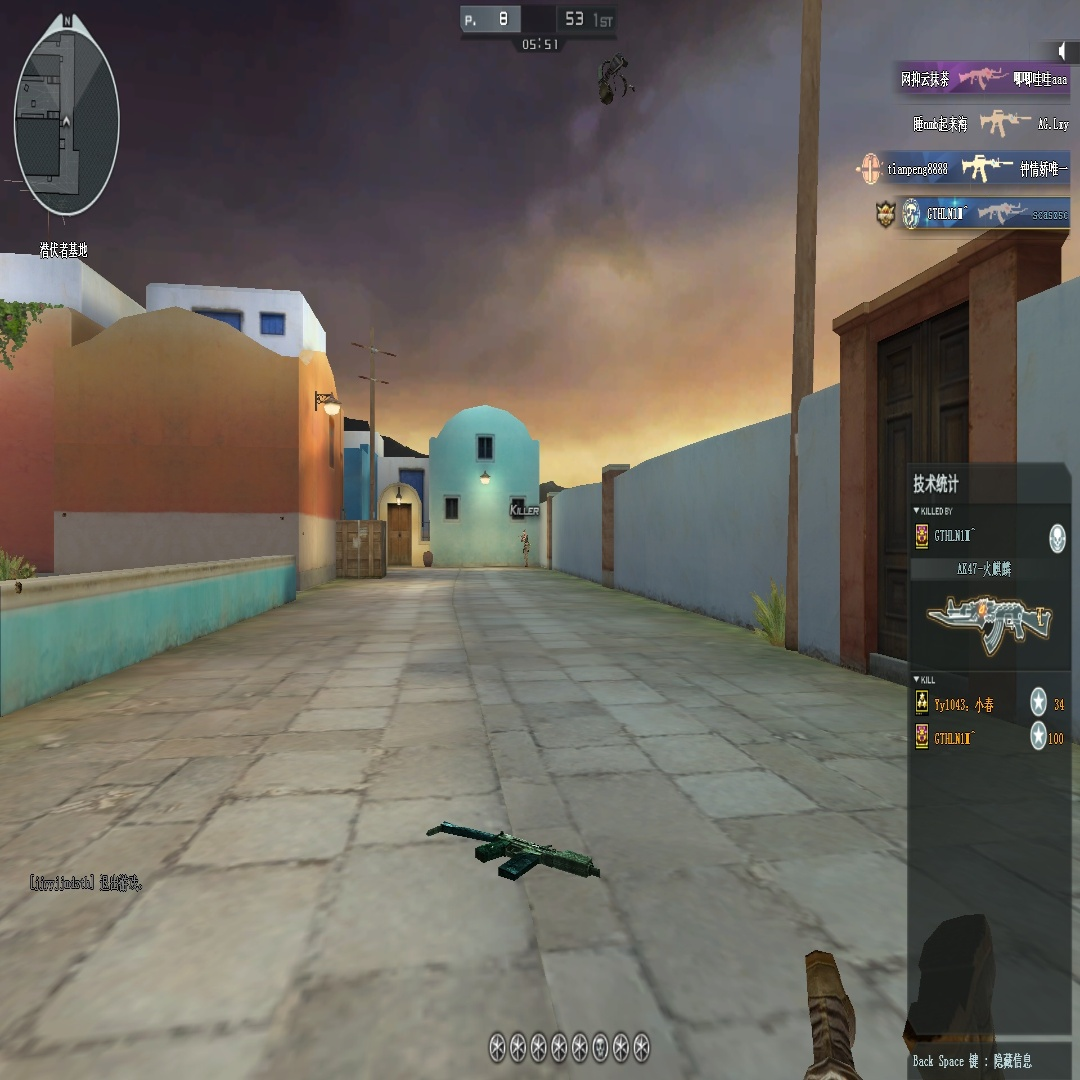head: (523, 529, 526, 536)
p: (520, 528, 530, 564)
